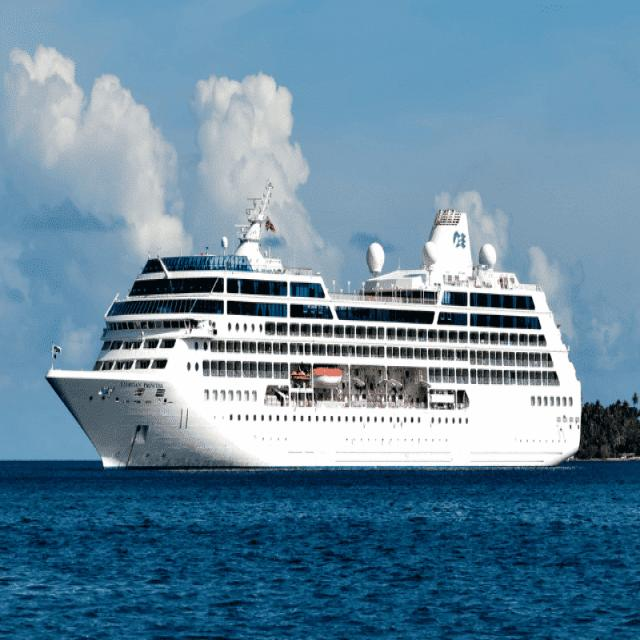PassengerShip: (22, 174, 601, 512)
